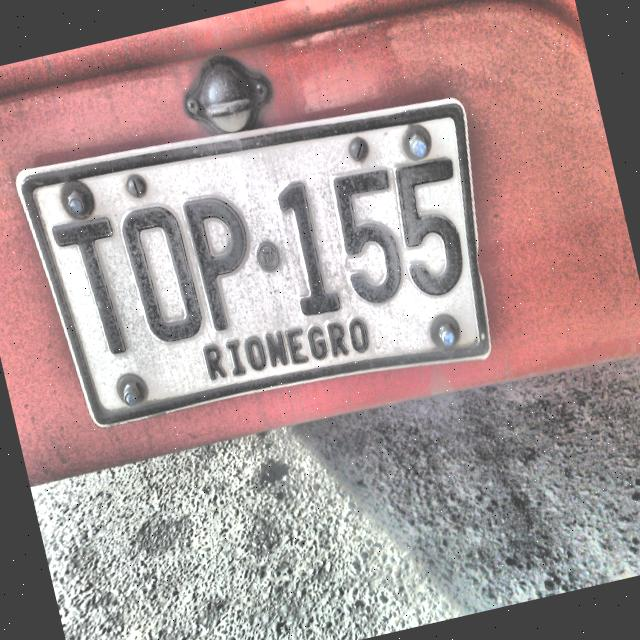plate: (14, 95, 491, 429)
